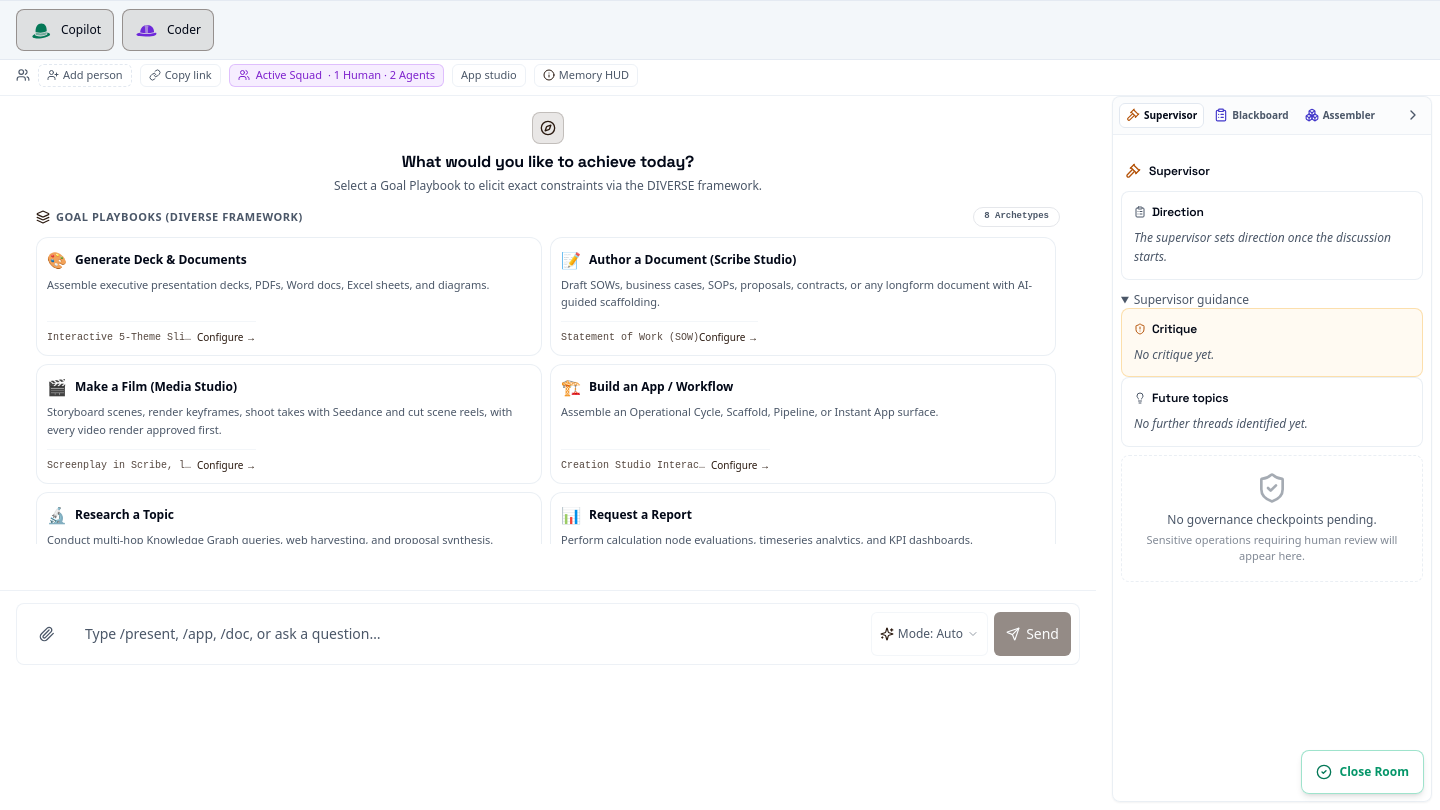
Test: Crew composer @-mention intellisense › navigates suggestions with keyboard and inserts mention with trailing space on Enter
Type "Hello @Cop" into the text box with test id "crew-composer" at (470, 634), box [77,612,863,656]
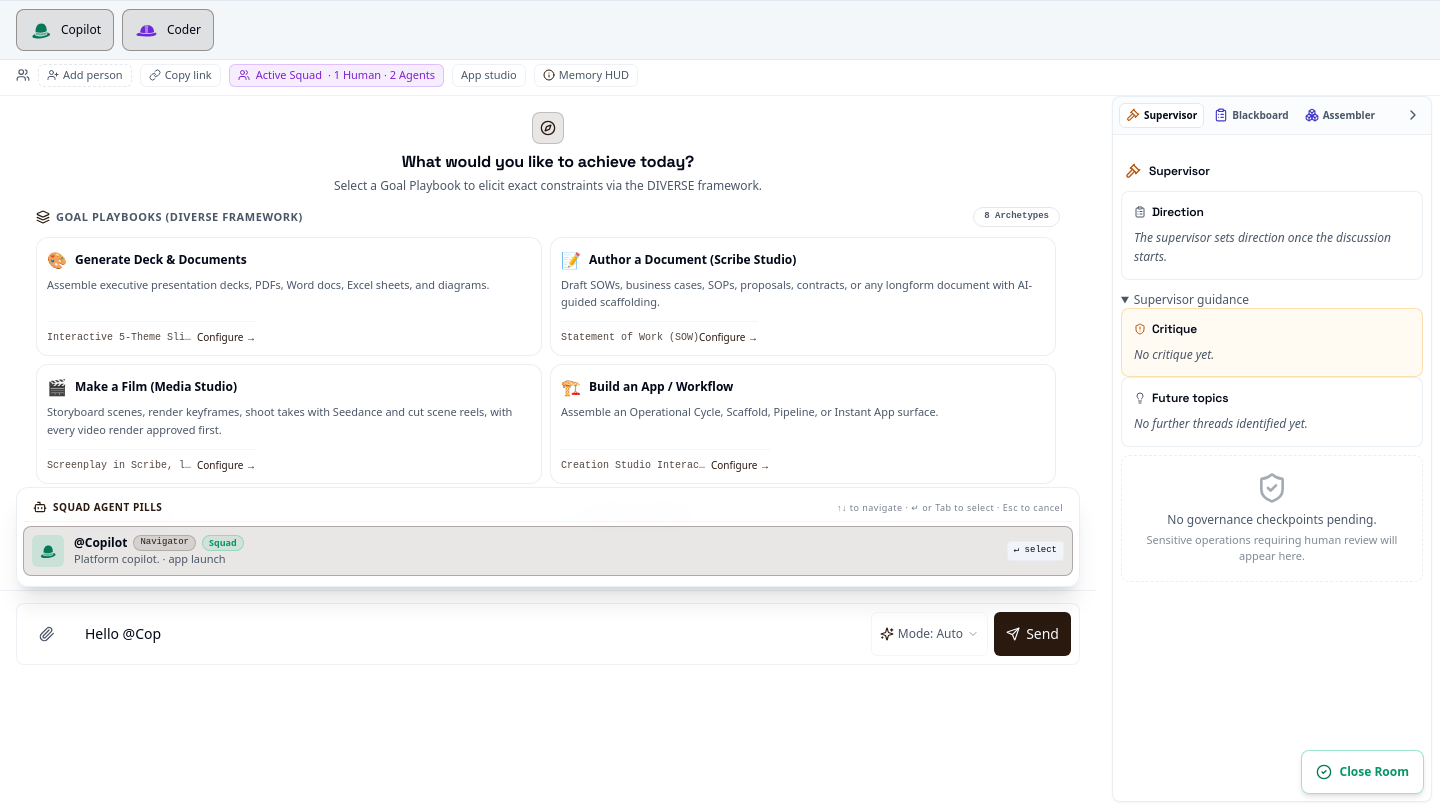
Expected: the element with test id "crew-mention-popover" is shown, [16,487,1080,587]
// Press Enter to select
Press Enter in the text box with test id "crew-composer", box [77,612,863,656]
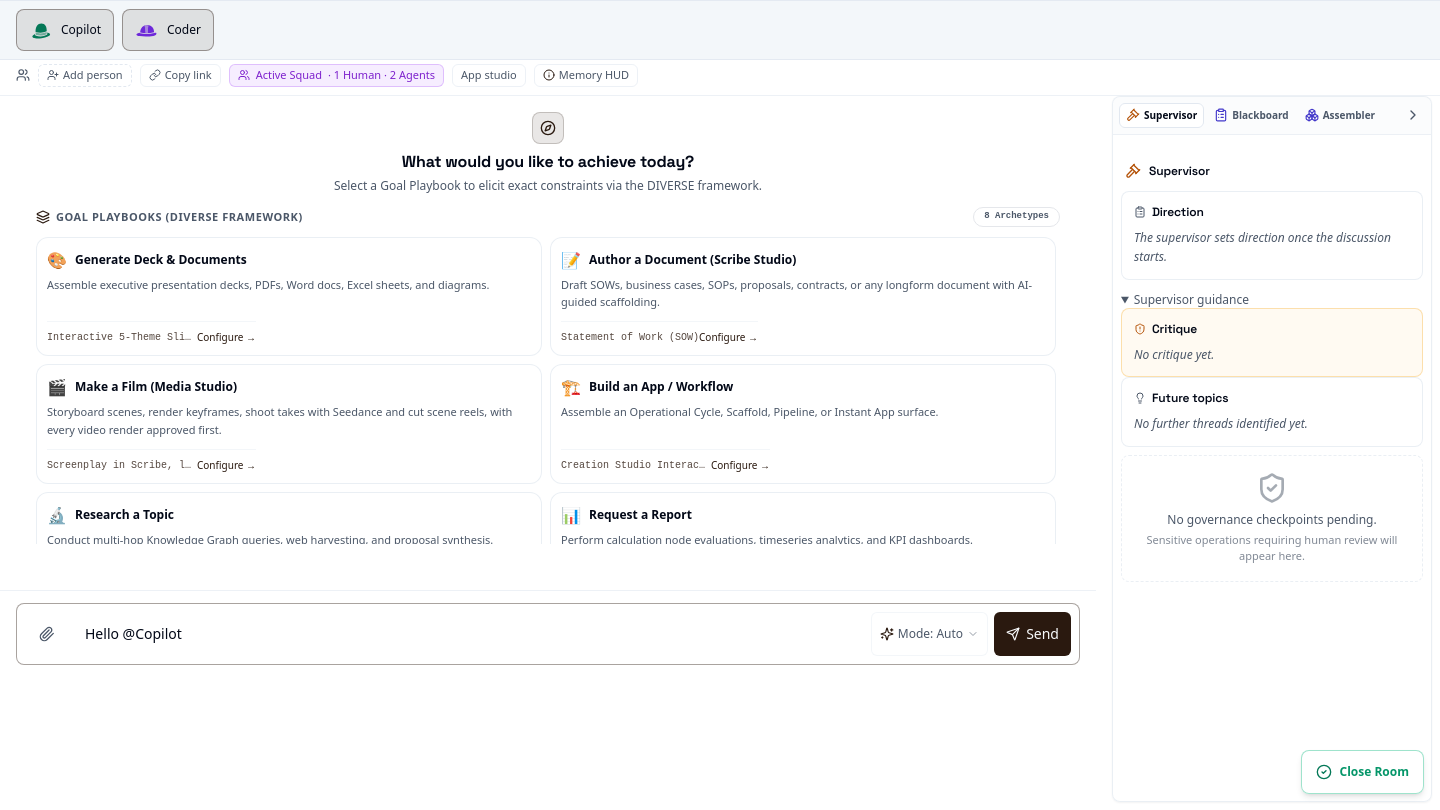
Expected: the text box with test id "crew-composer" holds "Hello @Copilot ", [77,612,863,656]
Expected: the element with test id "crew-mention-popover" is gone
